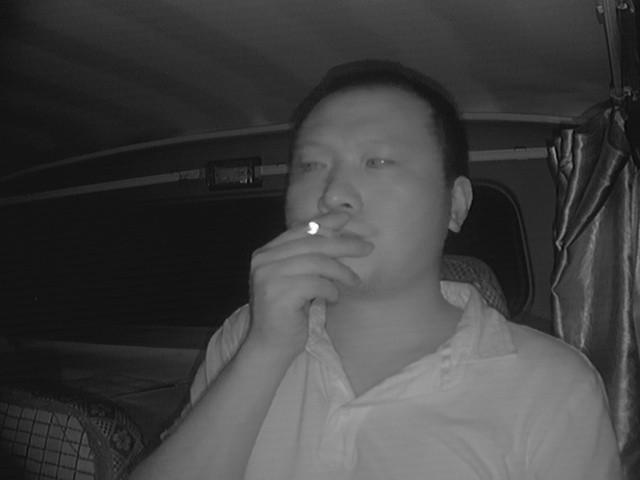hand: (262, 212, 358, 317)
